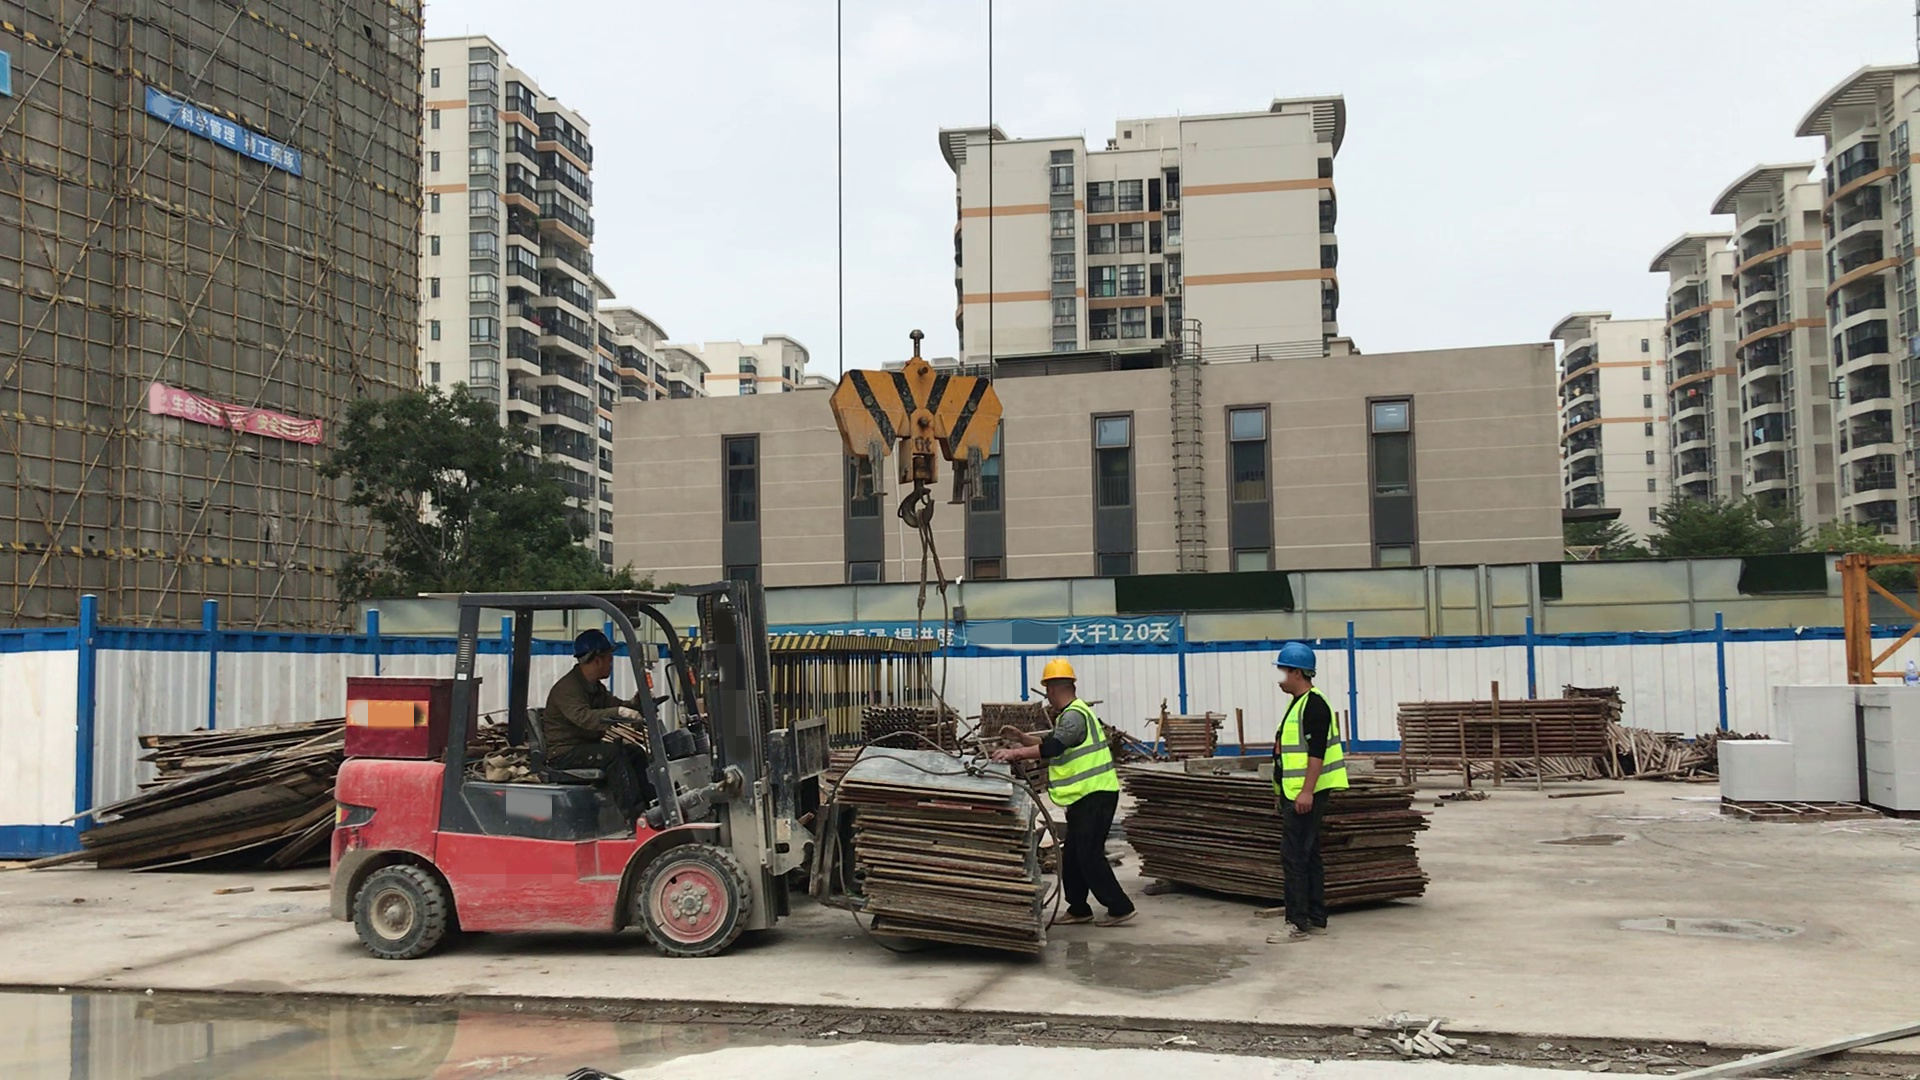board: (837, 745, 1055, 957), (63, 715, 334, 876), (1118, 753, 1284, 921), (1331, 778, 1435, 915)
brick: (1716, 683, 1864, 805), (1867, 683, 1920, 809)
helmet: (565, 626, 617, 669), (1274, 645, 1321, 680), (1040, 657, 1077, 687)
hook: (817, 328, 1015, 530)
person: (1030, 658, 1136, 927), (1266, 639, 1352, 948), (537, 626, 649, 827)
scaffold: (1397, 698, 1607, 759), (1147, 708, 1231, 759)
slogan: (145, 94, 297, 175), (155, 380, 321, 448), (985, 617, 1178, 653)
vest: (1278, 688, 1350, 802), (1049, 700, 1122, 806)
